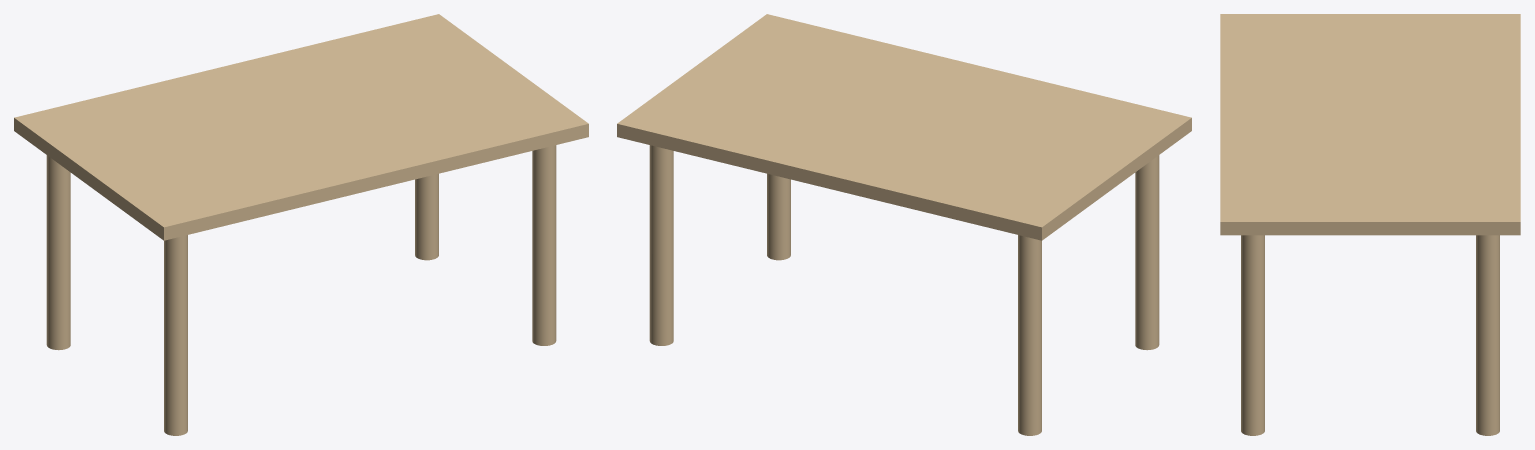
Rendered from ikea-lack-10449893-g2-proxy.glb.
3 renders of one model, left to right at view 1: azimuth 30°, elevation 25°; view 2: azimuth 150°, elevation 25°; view 3: azimuth 270°, elevation 25°, orthographic.
Parts seen in each view (by area): view 1: proxy_body, leg (×4); view 2: proxy_body, leg (×4); view 3: proxy_body, leg (×2).
Boxes of the visible parts, x1=… form: proxy_body: x1=14, y1=14, x2=588, y2=240; leg (×4): x1=46, y1=145, x2=556, y2=435; proxy_body: x1=617, y1=14, x2=1191, y2=240; leg (×4): x1=649, y1=145, x2=1159, y2=435; proxy_body: x1=1220, y1=14, x2=1520, y2=235; leg (×2): x1=1241, y1=235, x2=1499, y2=435.
Bounding box in the file's own units: 0.9 × 0.45 × 0.55.
